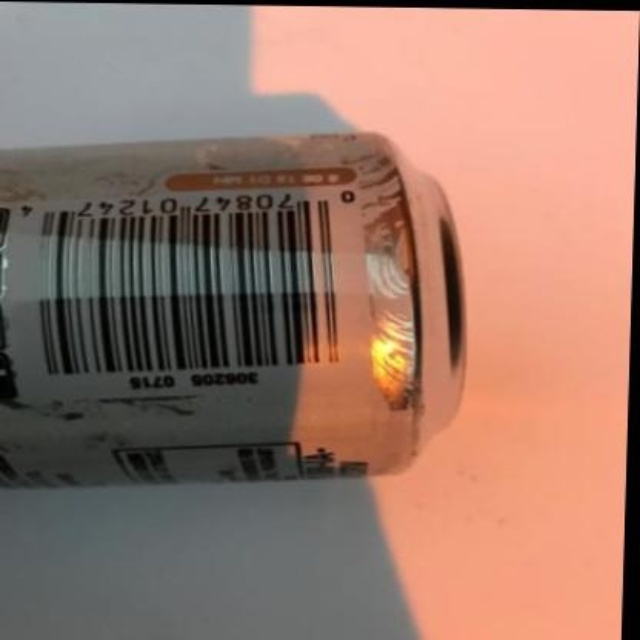trash: (0, 132, 465, 483)
